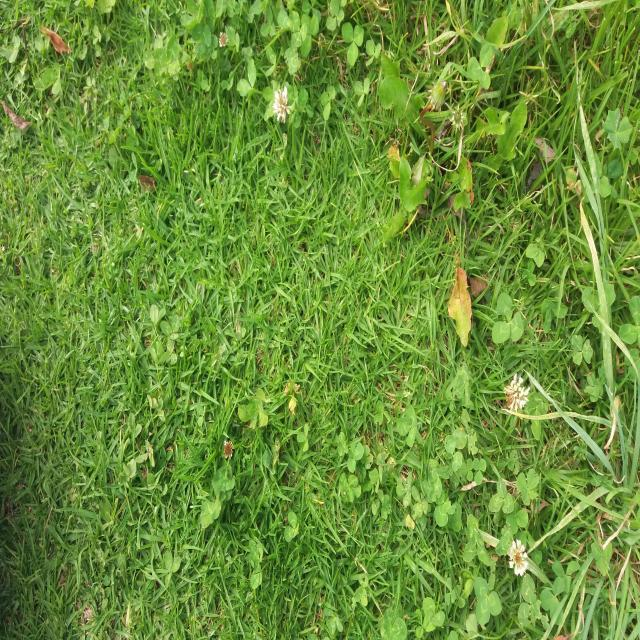Four Leaf Clover: (238, 388, 268, 429)
